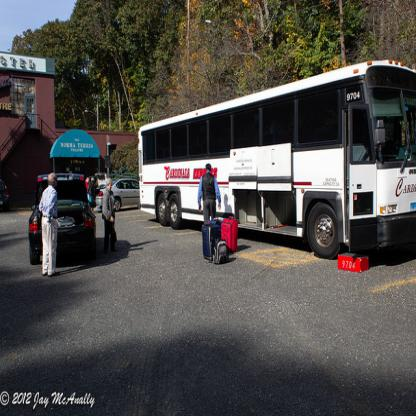backpack: (213, 239, 229, 264)
handbag: (101, 195, 113, 221)
suitcase: (201, 223, 219, 262), (220, 216, 238, 252), (56, 216, 75, 227)
